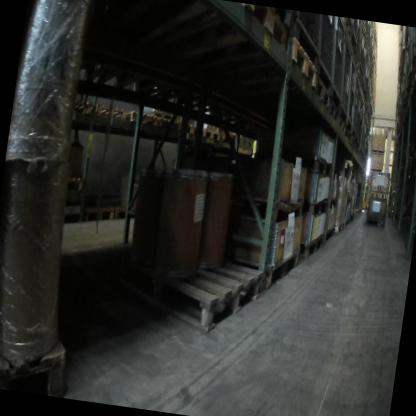pallet: (136, 246, 270, 348), (214, 235, 302, 307), (0, 323, 80, 397), (278, 31, 325, 97), (231, 190, 307, 230), (227, 2, 289, 51), (78, 200, 116, 234), (90, 94, 129, 127), (302, 153, 333, 185), (124, 101, 155, 133), (296, 230, 324, 265), (310, 71, 333, 112), (66, 93, 97, 123), (303, 194, 330, 225), (149, 111, 179, 136), (334, 118, 357, 150), (322, 95, 342, 126), (175, 120, 202, 142), (61, 171, 85, 195), (199, 125, 223, 147), (338, 18, 354, 44), (335, 111, 349, 139), (353, 67, 366, 92), (350, 51, 363, 75), (367, 190, 390, 203), (346, 36, 357, 60), (329, 220, 345, 236), (370, 148, 386, 158), (349, 207, 362, 218), (369, 166, 384, 174)
stillage: (325, 16, 354, 102), (333, 36, 358, 121), (311, 16, 342, 83), (287, 10, 324, 58), (341, 56, 362, 128), (351, 83, 369, 149), (348, 78, 364, 138), (402, 43, 416, 90), (403, 27, 416, 74), (361, 119, 374, 163), (357, 110, 368, 153), (392, 85, 411, 107)
